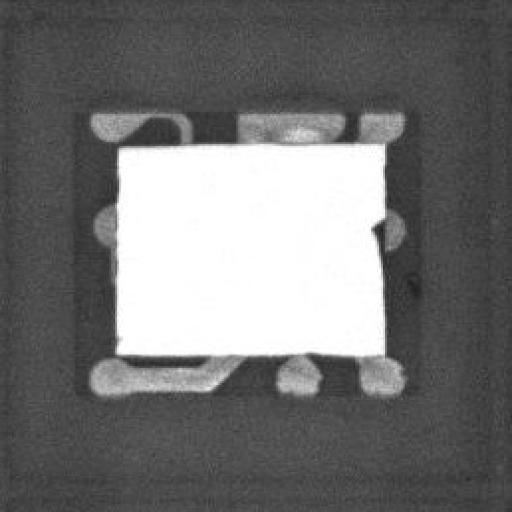DIE_BROKEN: (365, 214, 383, 270)
